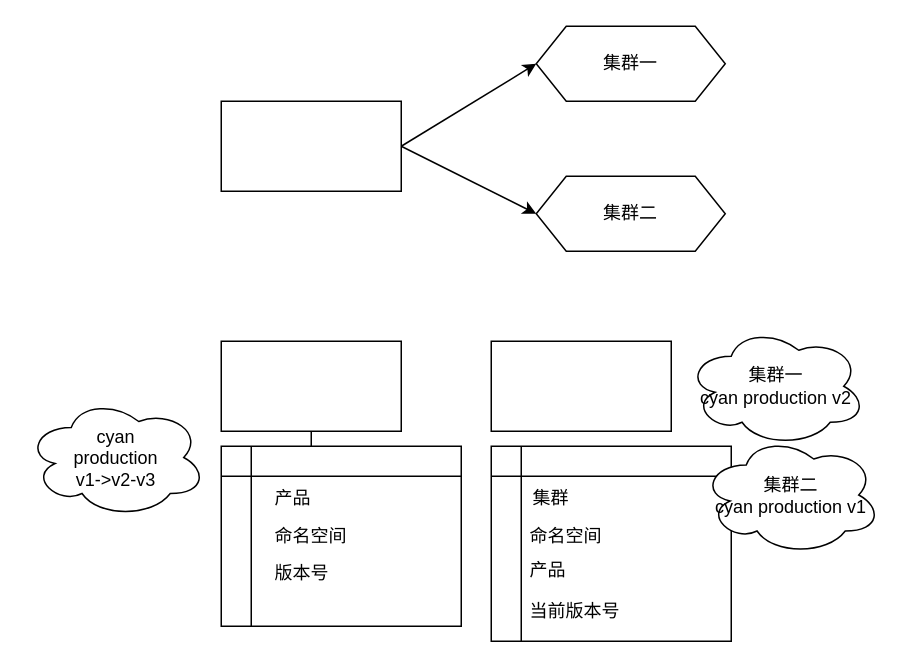
Image size: 908x668. Some labels were removed from this diagram. Each missing label, with the box of its shape:
总基线-完整: (220, 340, 401, 431)
环境: (220, 100, 401, 191)
集群-简单: (490, 340, 671, 431)
